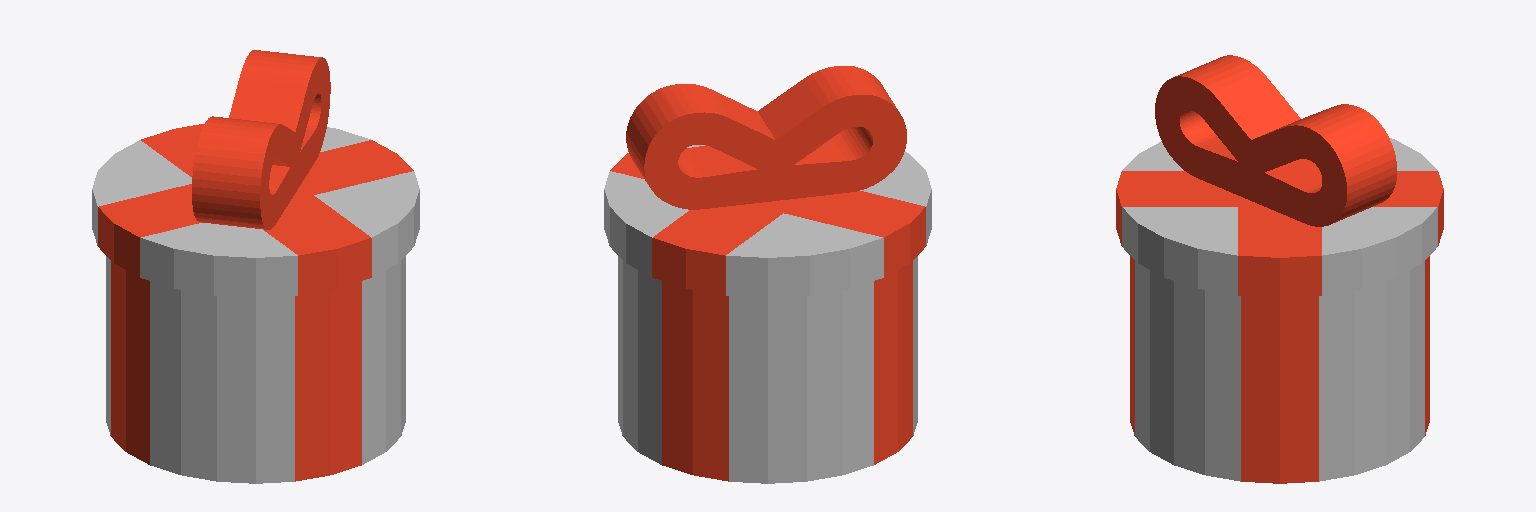
Rendered from presents.obj.
3 views of the same model, side by side, from view 1: azimuth 30°, elevation 25°; view 2: azimuth 150°, elevation 25°; view 3: azimuth 270°, elevation 25° (orthographic).
Parts seen in each view (by area): view 1: presentRound; view 2: presentRound; view 3: presentRound.
Boxes of the visible parts, x1,y1,x2,y2 form: presentRound: [92, 50, 419, 483]; presentRound: [604, 66, 931, 483]; presentRound: [1116, 55, 1443, 483].
Size of the model in its own units: 0.361 by 0.3997 by 0.361.